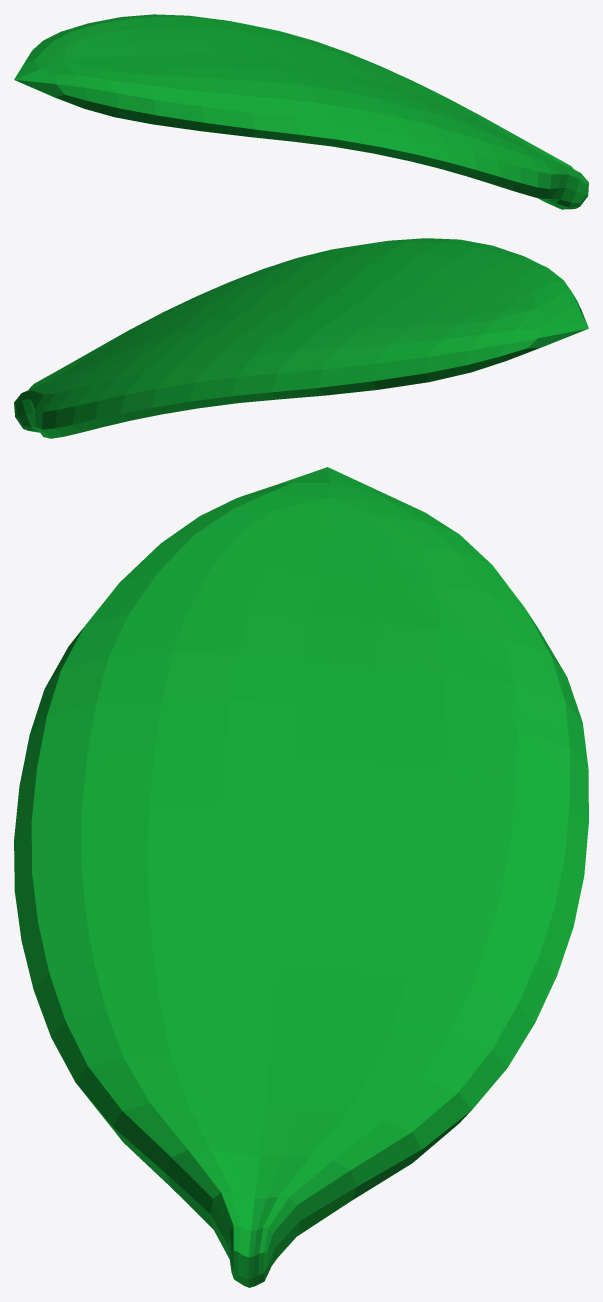
The model's file is happakatta-.fbx.
3 views of the same model, one above another, from view 1: azimuth 30°, elevation 25°; view 2: azimuth 150°, elevation 25°; view 3: azimuth 270°, elevation 25° (orthographic). The views are drawn at different scales.
Visible parts, largest first — view 1: 平面; view 2: 平面; view 3: 平面.
Boxes of the visible parts, x1=… form: 平面: x1=14, y1=14, x2=588, y2=209; 平面: x1=14, y1=238, x2=588, y2=438; 平面: x1=14, y1=467, x2=588, y2=1287.
Bounding box in the file's own units: 516 × 224 × 288.
